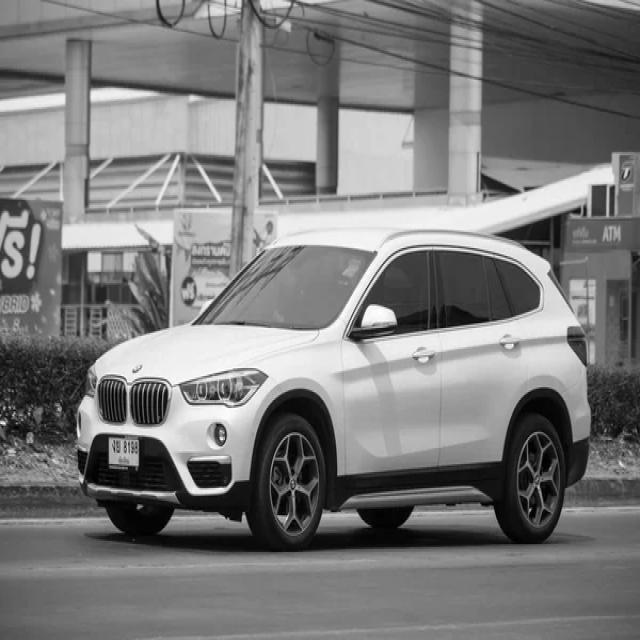Car: (76, 230, 592, 550)
